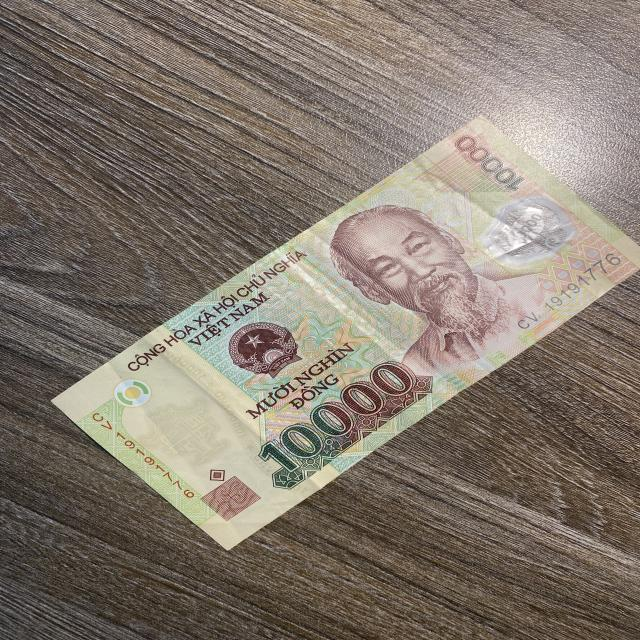10 000 VND: (47, 112, 640, 554)
